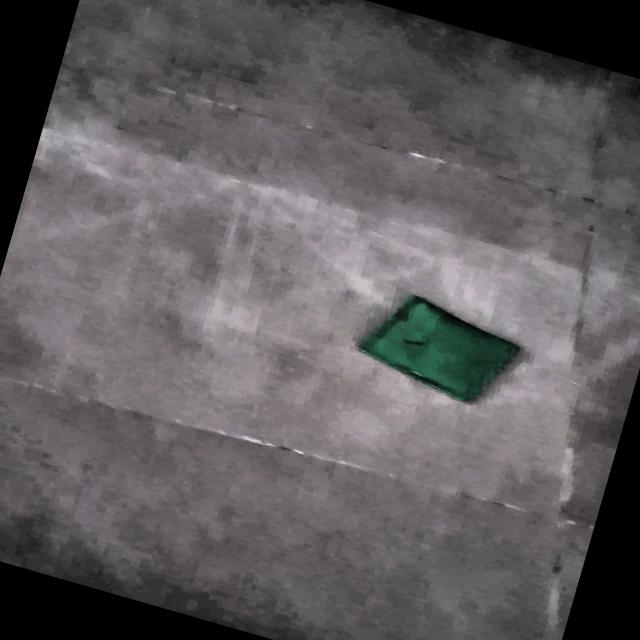payload: (359, 296, 519, 402)
